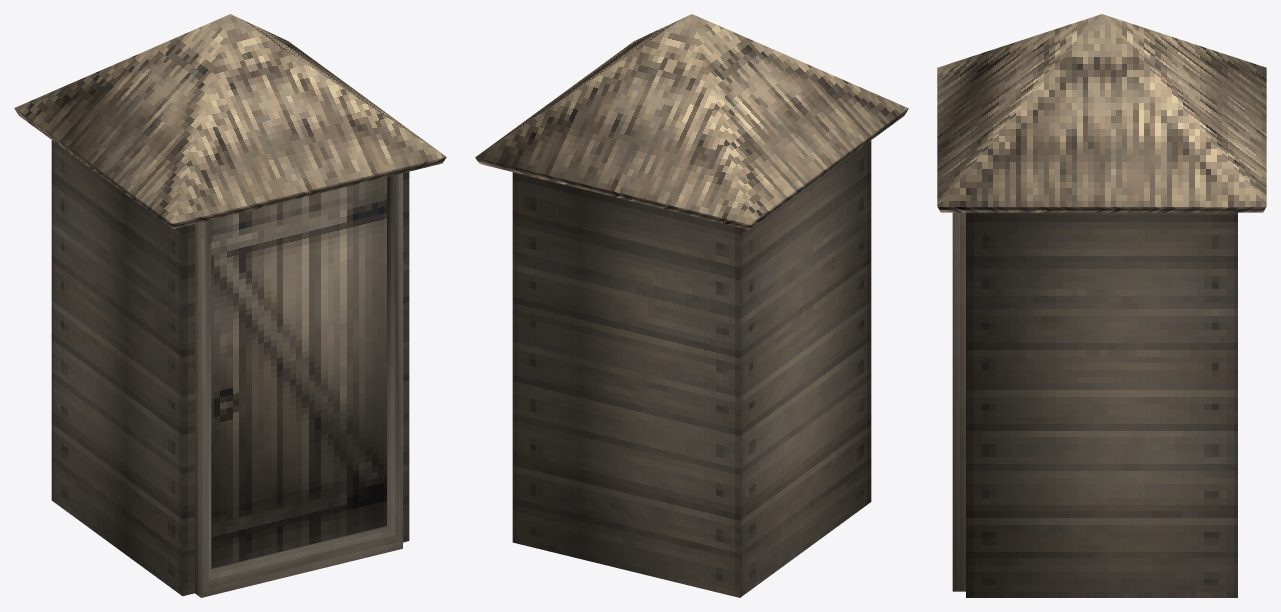
The model's file is oga_outhouse.glb.
The picture shows the model from 3 angles, left to right: view 1: azimuth 30°, elevation 25°; view 2: azimuth 150°, elevation 25°; view 3: azimuth 270°, elevation 25°; orthographic projection. The views are drawn at different scales.
Parts seen in each view (by area): view 1: oga_outhouse; view 2: oga_outhouse; view 3: oga_outhouse.
Boxes of the visible parts, x1,y1,x2,y2 form: oga_outhouse: (14,14,446,597); oga_outhouse: (475,14,908,597); oga_outhouse: (937,14,1266,597).
Bounding box in the file's own units: 1.42 × 2.5 × 1.42.
1 material, 1 textured.
